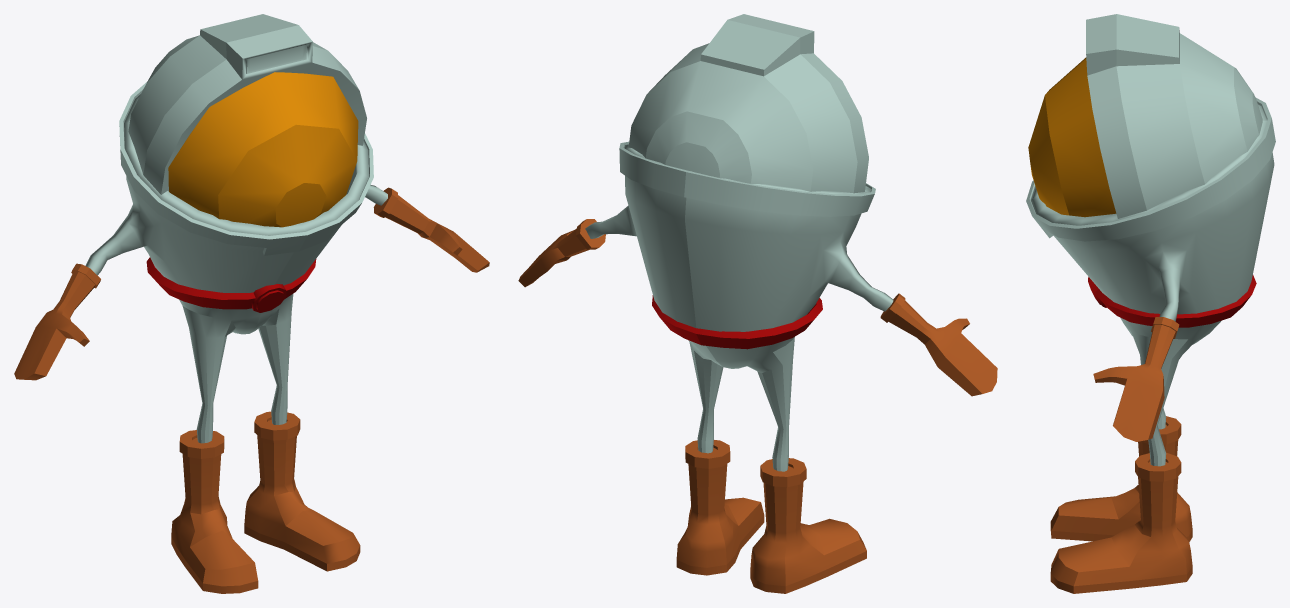
Rendered from SpaceMan.fbx.
3 renders of one model, left to right at view 1: azimuth 30°, elevation 25°; view 2: azimuth 150°, elevation 25°; view 3: azimuth 270°, elevation 25°, orthographic.
Parts seen in each view (by area): view 1: buckle; view 2: buckle; view 3: buckle.
Boxes of the visible parts, left/top/right/bottom form: buckle: left=14, top=14, right=489, bottom=593; buckle: left=518, top=14, right=997, bottom=593; buckle: left=1026, top=14, right=1275, bottom=593.
Size of the model in its own units: 4.28 by 4.56 by 1.97.
